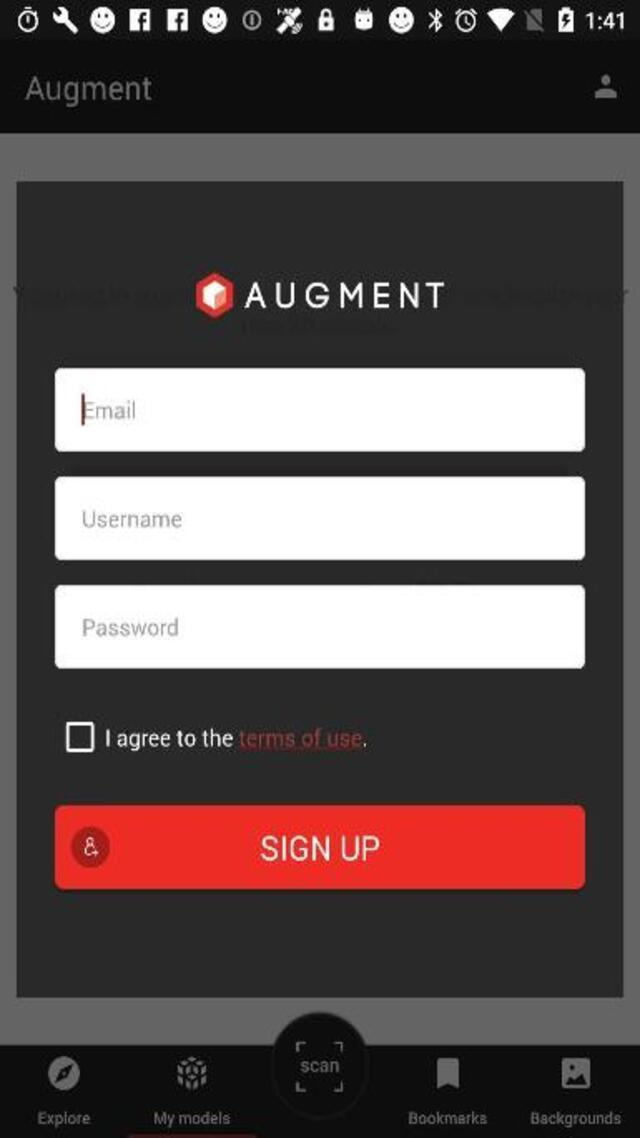CheckedTextView: (66, 721, 367, 751)
Icon: (70, 825, 112, 869), (47, 1055, 79, 1089), (438, 1057, 460, 1087), (594, 76, 616, 98)
Image: (296, 1042, 342, 1092), (196, 273, 233, 317), (179, 1055, 207, 1089), (563, 1057, 591, 1087)
Text: (107, 728, 366, 751), (243, 281, 444, 309), (253, 830, 383, 865), (25, 78, 151, 108), (85, 617, 178, 635), (84, 511, 182, 527), (532, 1110, 622, 1126), (154, 1110, 228, 1126), (411, 1112, 487, 1124), (84, 402, 134, 420), (39, 1112, 91, 1128)
TextButton: (54, 806, 584, 888)
